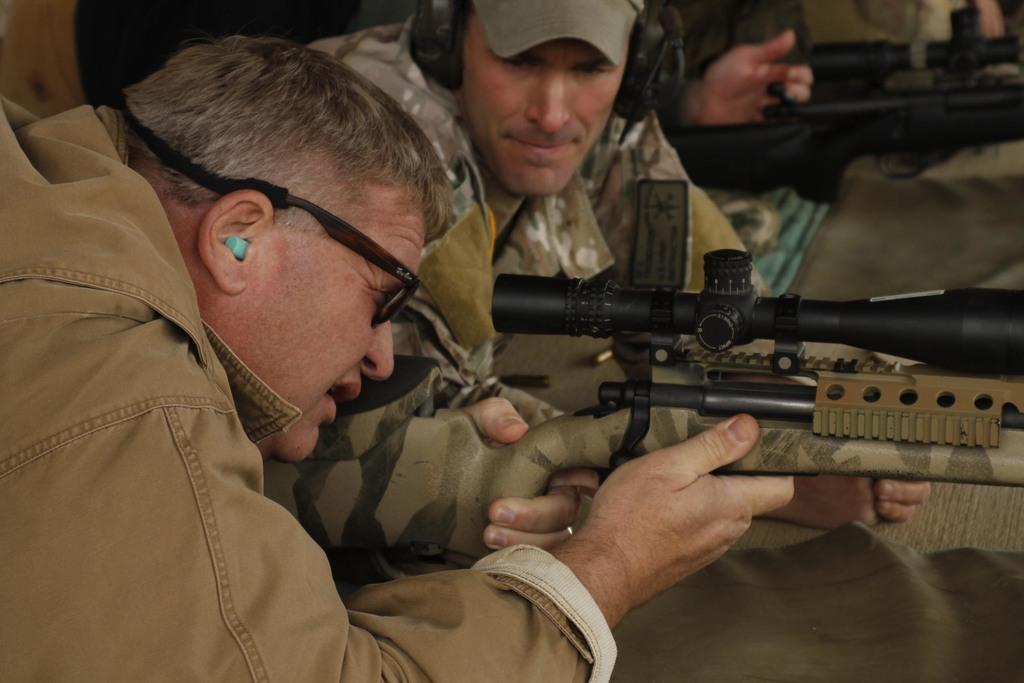Shotgun: (261, 247, 1023, 559), (654, 75, 1023, 209), (684, 1, 1023, 100)
